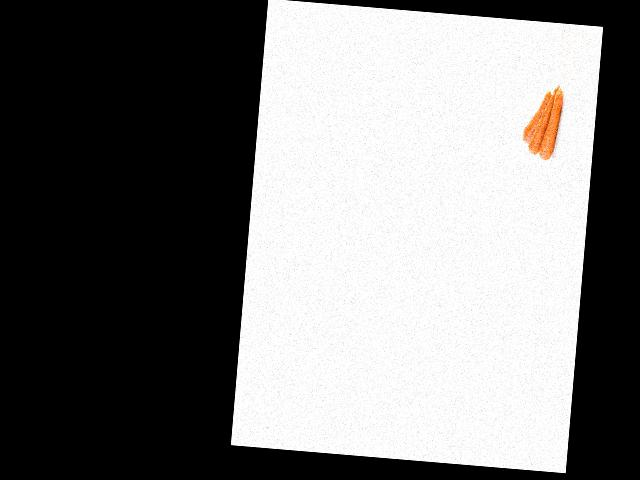carrot: (538, 87, 567, 163)
